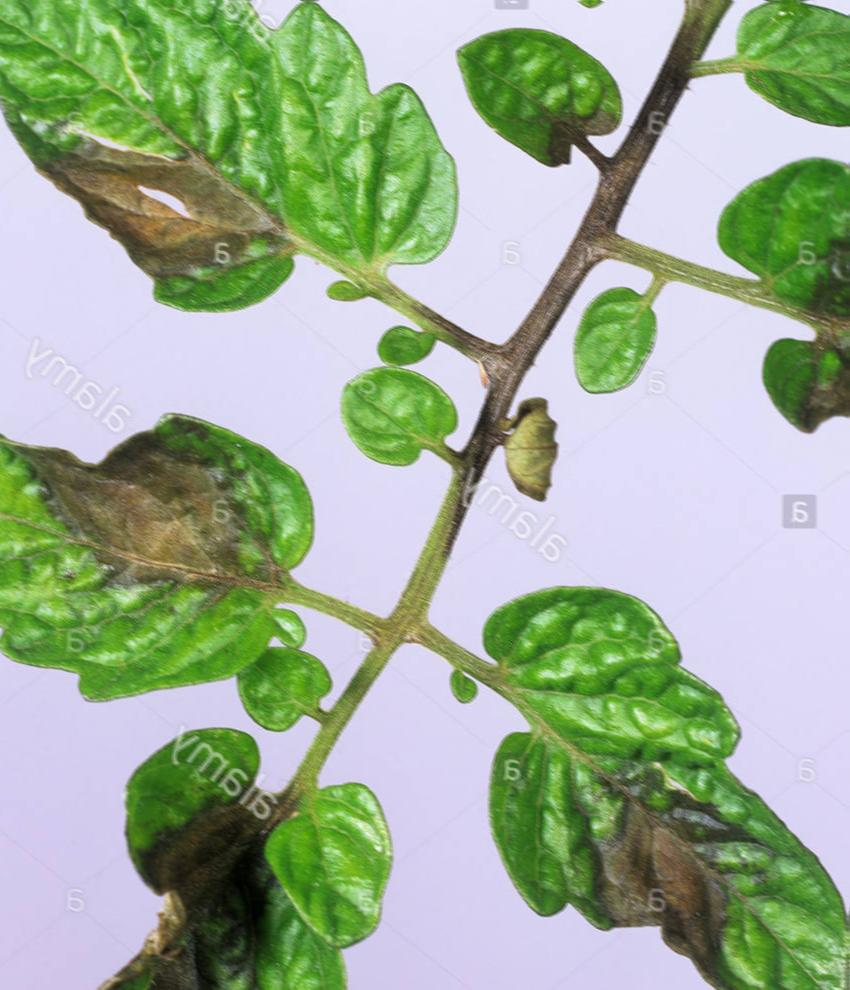Tomato leaf late blight: (456, 566, 850, 990), (0, 0, 467, 320), (18, 708, 409, 990), (0, 408, 329, 734)
